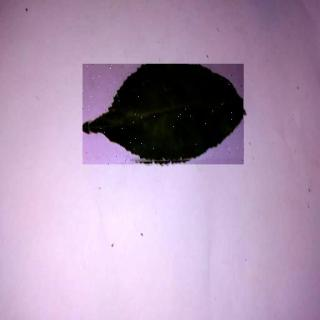Bird Eye Spot: (84, 66, 246, 167)
